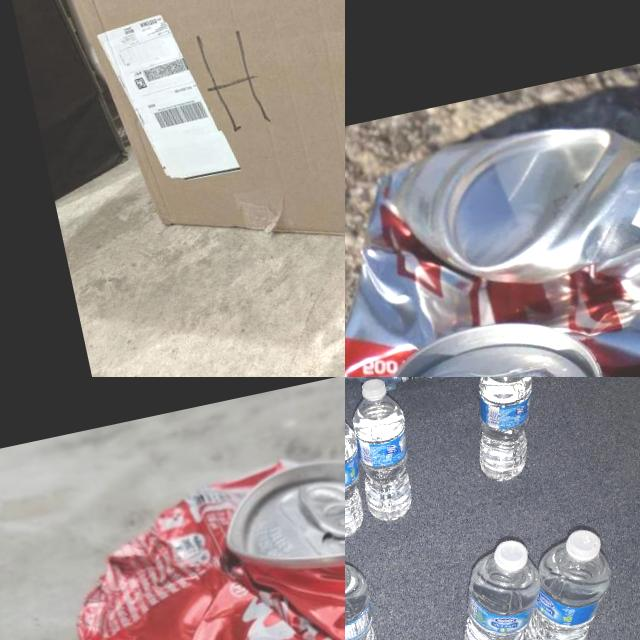aba de lata: (294, 468, 345, 549), (455, 363, 562, 377)
garrafa plástica: (508, 533, 630, 640), (444, 543, 557, 640), (348, 392, 427, 526), (455, 377, 551, 487), (345, 413, 374, 543), (345, 557, 385, 640)
lata: (345, 85, 640, 377), (50, 422, 345, 640)
papelão: (29, 0, 345, 296)
tampa plástica: (558, 520, 606, 570), (486, 533, 534, 580), (356, 377, 387, 407)
